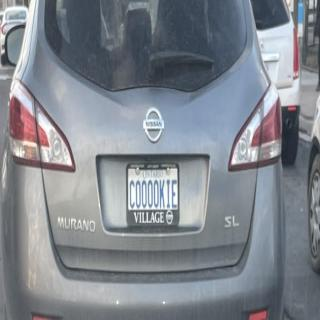license: (126, 163, 181, 228)
